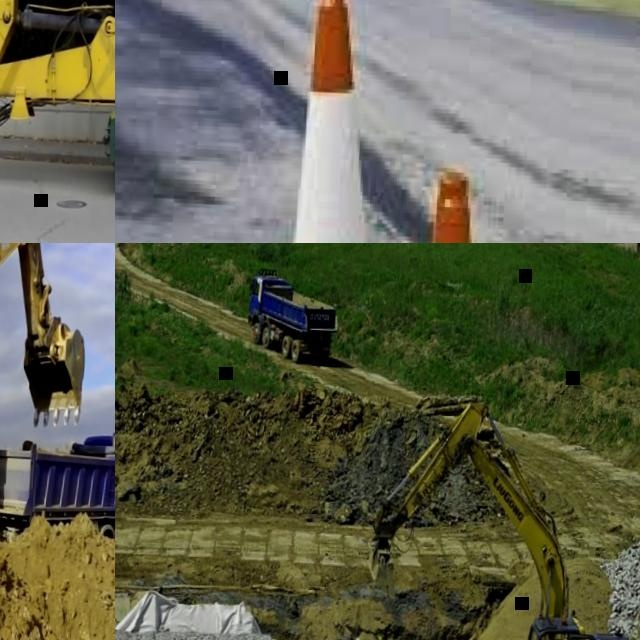Safety Cone: (221, 0, 437, 243)
machinery: (355, 395, 640, 640), (0, 243, 93, 541), (0, 0, 115, 151), (0, 426, 115, 544), (244, 265, 340, 364)
